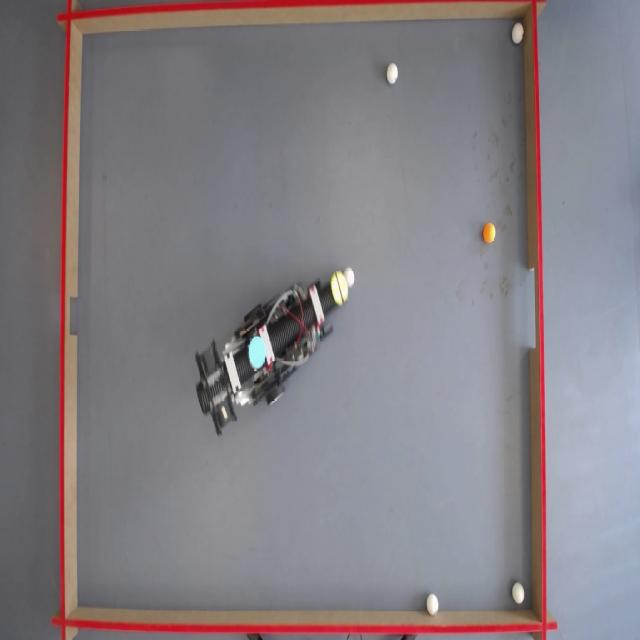orange: (484, 225, 498, 245)
robot: (191, 266, 354, 430)
robot-front: (330, 272, 350, 303)
robot-rear: (248, 334, 268, 370)
white: (513, 584, 527, 606), (512, 24, 526, 46), (426, 593, 440, 615), (386, 64, 399, 85), (345, 266, 354, 288)
